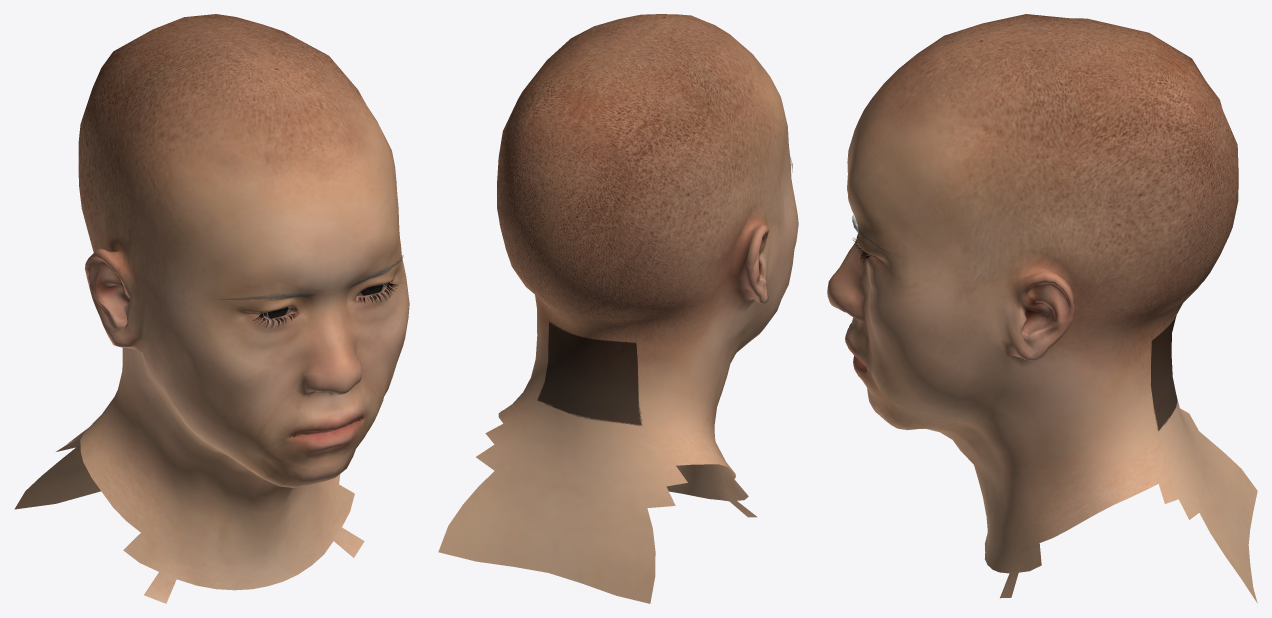
The model's file is patient05.glb.
3 views of the same model, side by side, from view 1: azimuth 30°, elevation 25°; view 2: azimuth 150°, elevation 25°; view 3: azimuth 270°, elevation 25° (orthographic). The views are drawn at different scales.
Visible parts, largest first — view 1: kim_sajang.body, kim_sajang.eyebrow001, kim_sajang.eyelashes01; view 2: kim_sajang.body; view 3: kim_sajang.body.
Boxes of the visible parts, x1=… form: kim_sajang.body: x1=14, y1=14, x2=409, y2=603; kim_sajang.eyebrow001: x1=220, y1=255, x2=403, y2=300; kim_sajang.eyelashes01: x1=253, y1=282, x2=398, y2=327; kim_sajang.body: x1=438, y1=14, x2=798, y2=603; kim_sajang.body: x1=827, y1=14, x2=1257, y2=603.
Bounding box in the file's own units: 0.1679 × 0.2997 × 0.2241.
7 materials, 6 textured.
